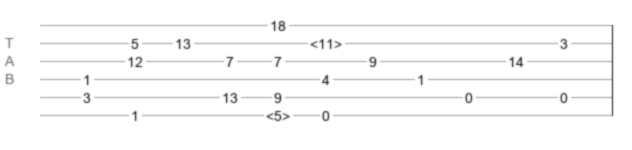0: (322, 108, 330, 118), (465, 90, 473, 100), (560, 90, 568, 100)
1: (83, 72, 91, 82), (131, 108, 139, 118), (417, 72, 425, 82)
12: (127, 54, 143, 64)
13: (175, 36, 191, 46), (222, 90, 238, 100)
14: (508, 54, 524, 64)
18: (270, 18, 286, 28)
3: (83, 90, 91, 100), (560, 36, 568, 46)
4: (322, 72, 330, 82)
5: (131, 36, 139, 46)
7: (226, 54, 234, 64), (274, 54, 282, 64)
9: (274, 90, 282, 100), (369, 54, 377, 64)
harmonic: (310, 36, 342, 46), (266, 108, 290, 118)
